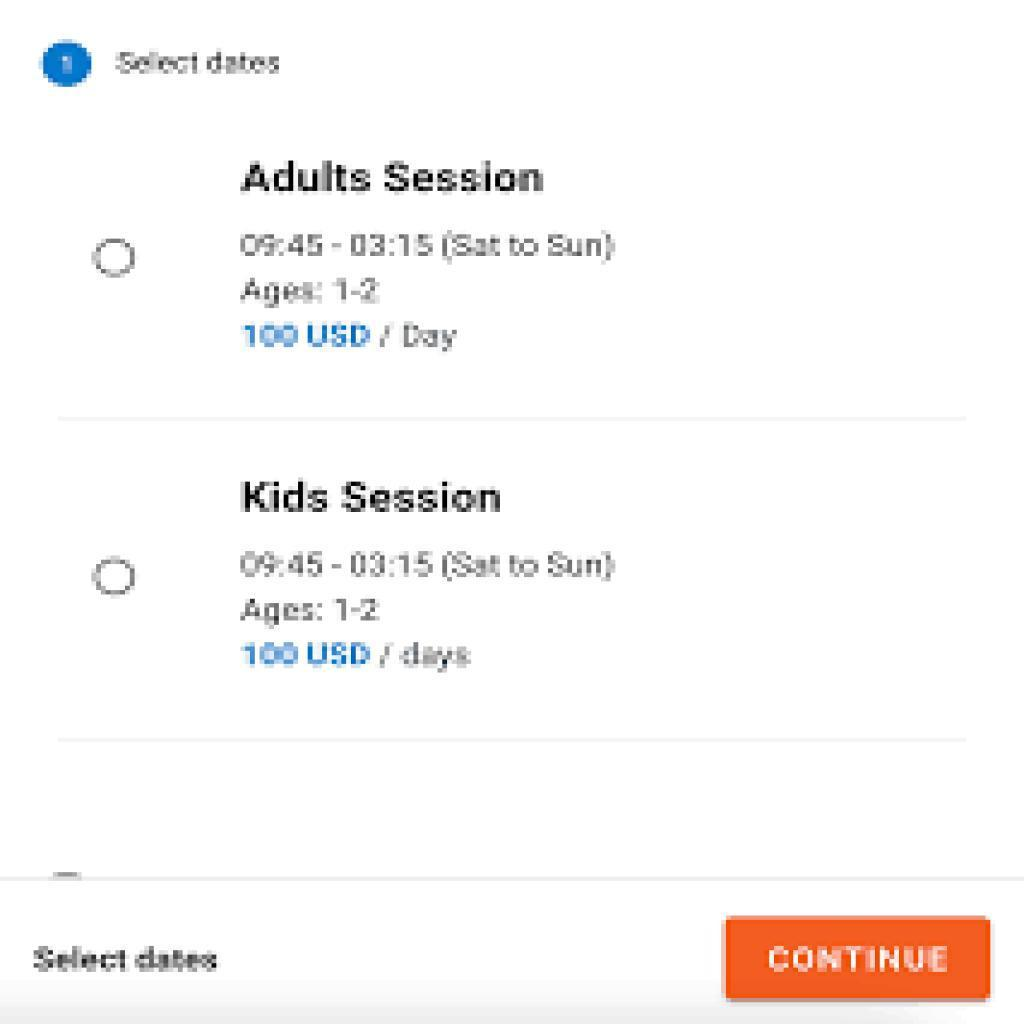button: (730, 920, 994, 1005)
radio: (83, 233, 154, 289), (87, 553, 148, 601)
